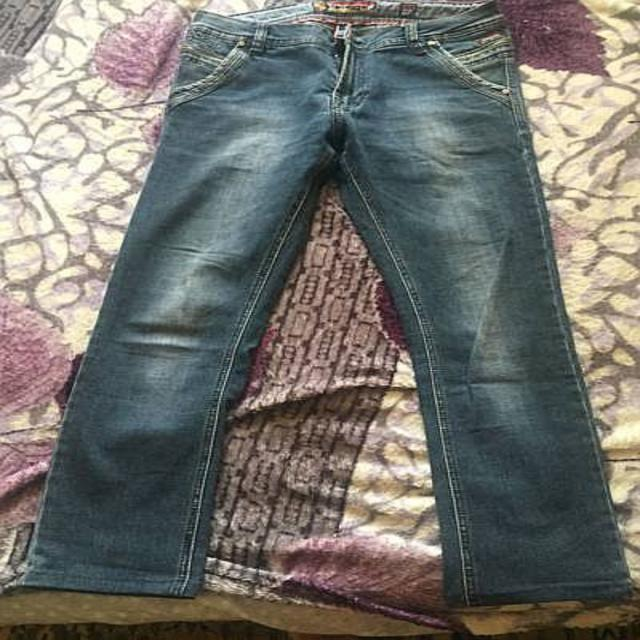TROUSER: (16, 11, 640, 613)
